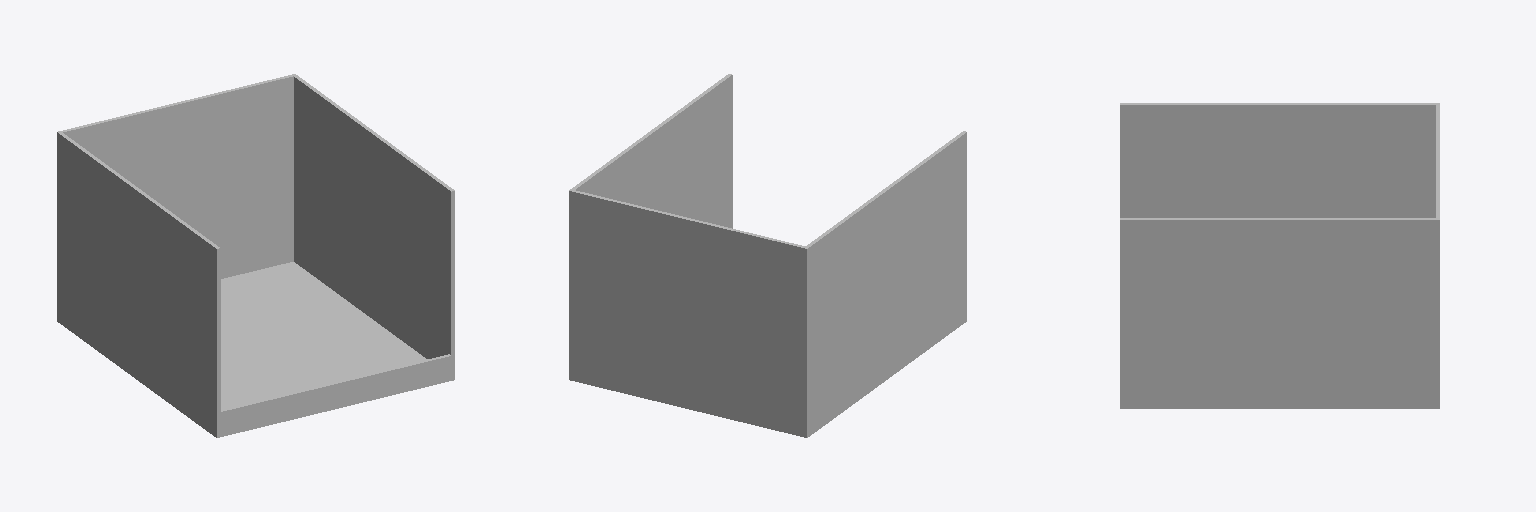
The model's file is bin_base.obj.
3 renders of one model, left to right at view 1: azimuth 30°, elevation 25°; view 2: azimuth 150°, elevation 25°; view 3: azimuth 270°, elevation 25°, orthographic.
Visible parts, largest first — view 1: Cube; view 2: Cube; view 3: Cube.
Part boxes in pixels (bbox=[...]): Cube: bbox=[57, 74, 454, 437]; Cube: bbox=[569, 74, 966, 437]; Cube: bbox=[1120, 103, 1439, 408].
Bounding box in the file's own units: 0.315 × 0.2388 × 0.3658.